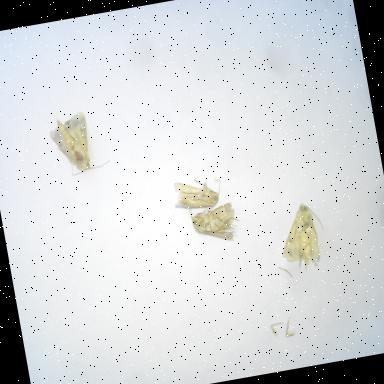abw: (43, 105, 119, 186), (270, 193, 334, 277), (182, 200, 244, 252), (163, 172, 229, 218)
